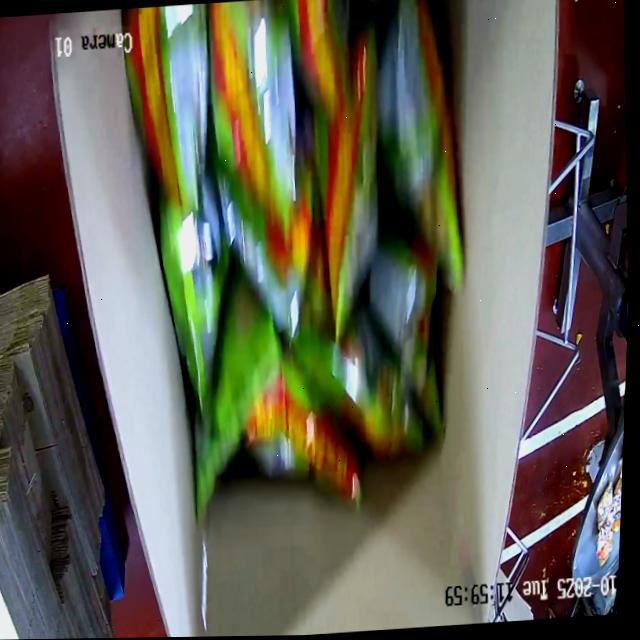YOGURT_HERB: (114, 0, 499, 538)
